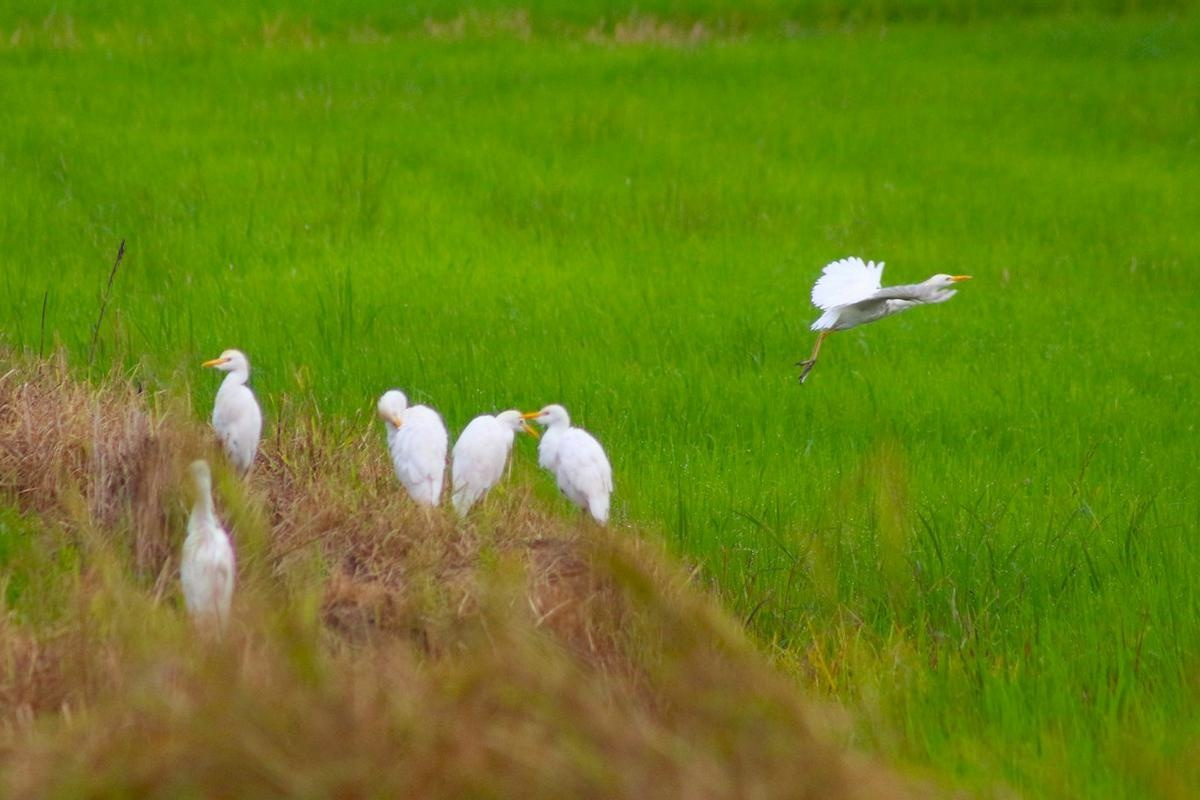egret: (785, 238, 980, 385), (525, 401, 629, 526), (446, 404, 543, 527), (200, 343, 288, 476), (366, 382, 454, 512)
